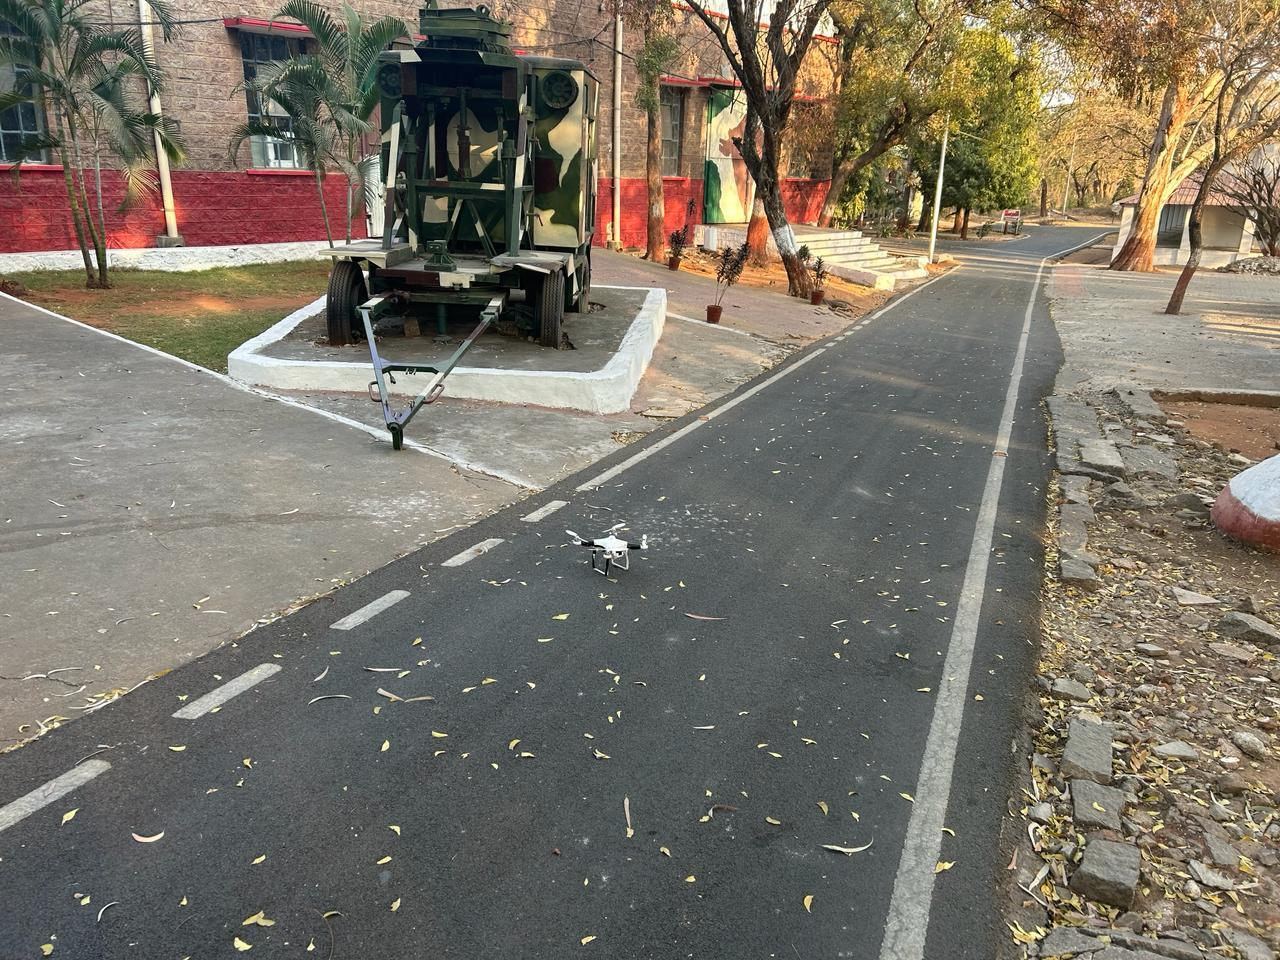drone: (526, 500, 698, 604)
